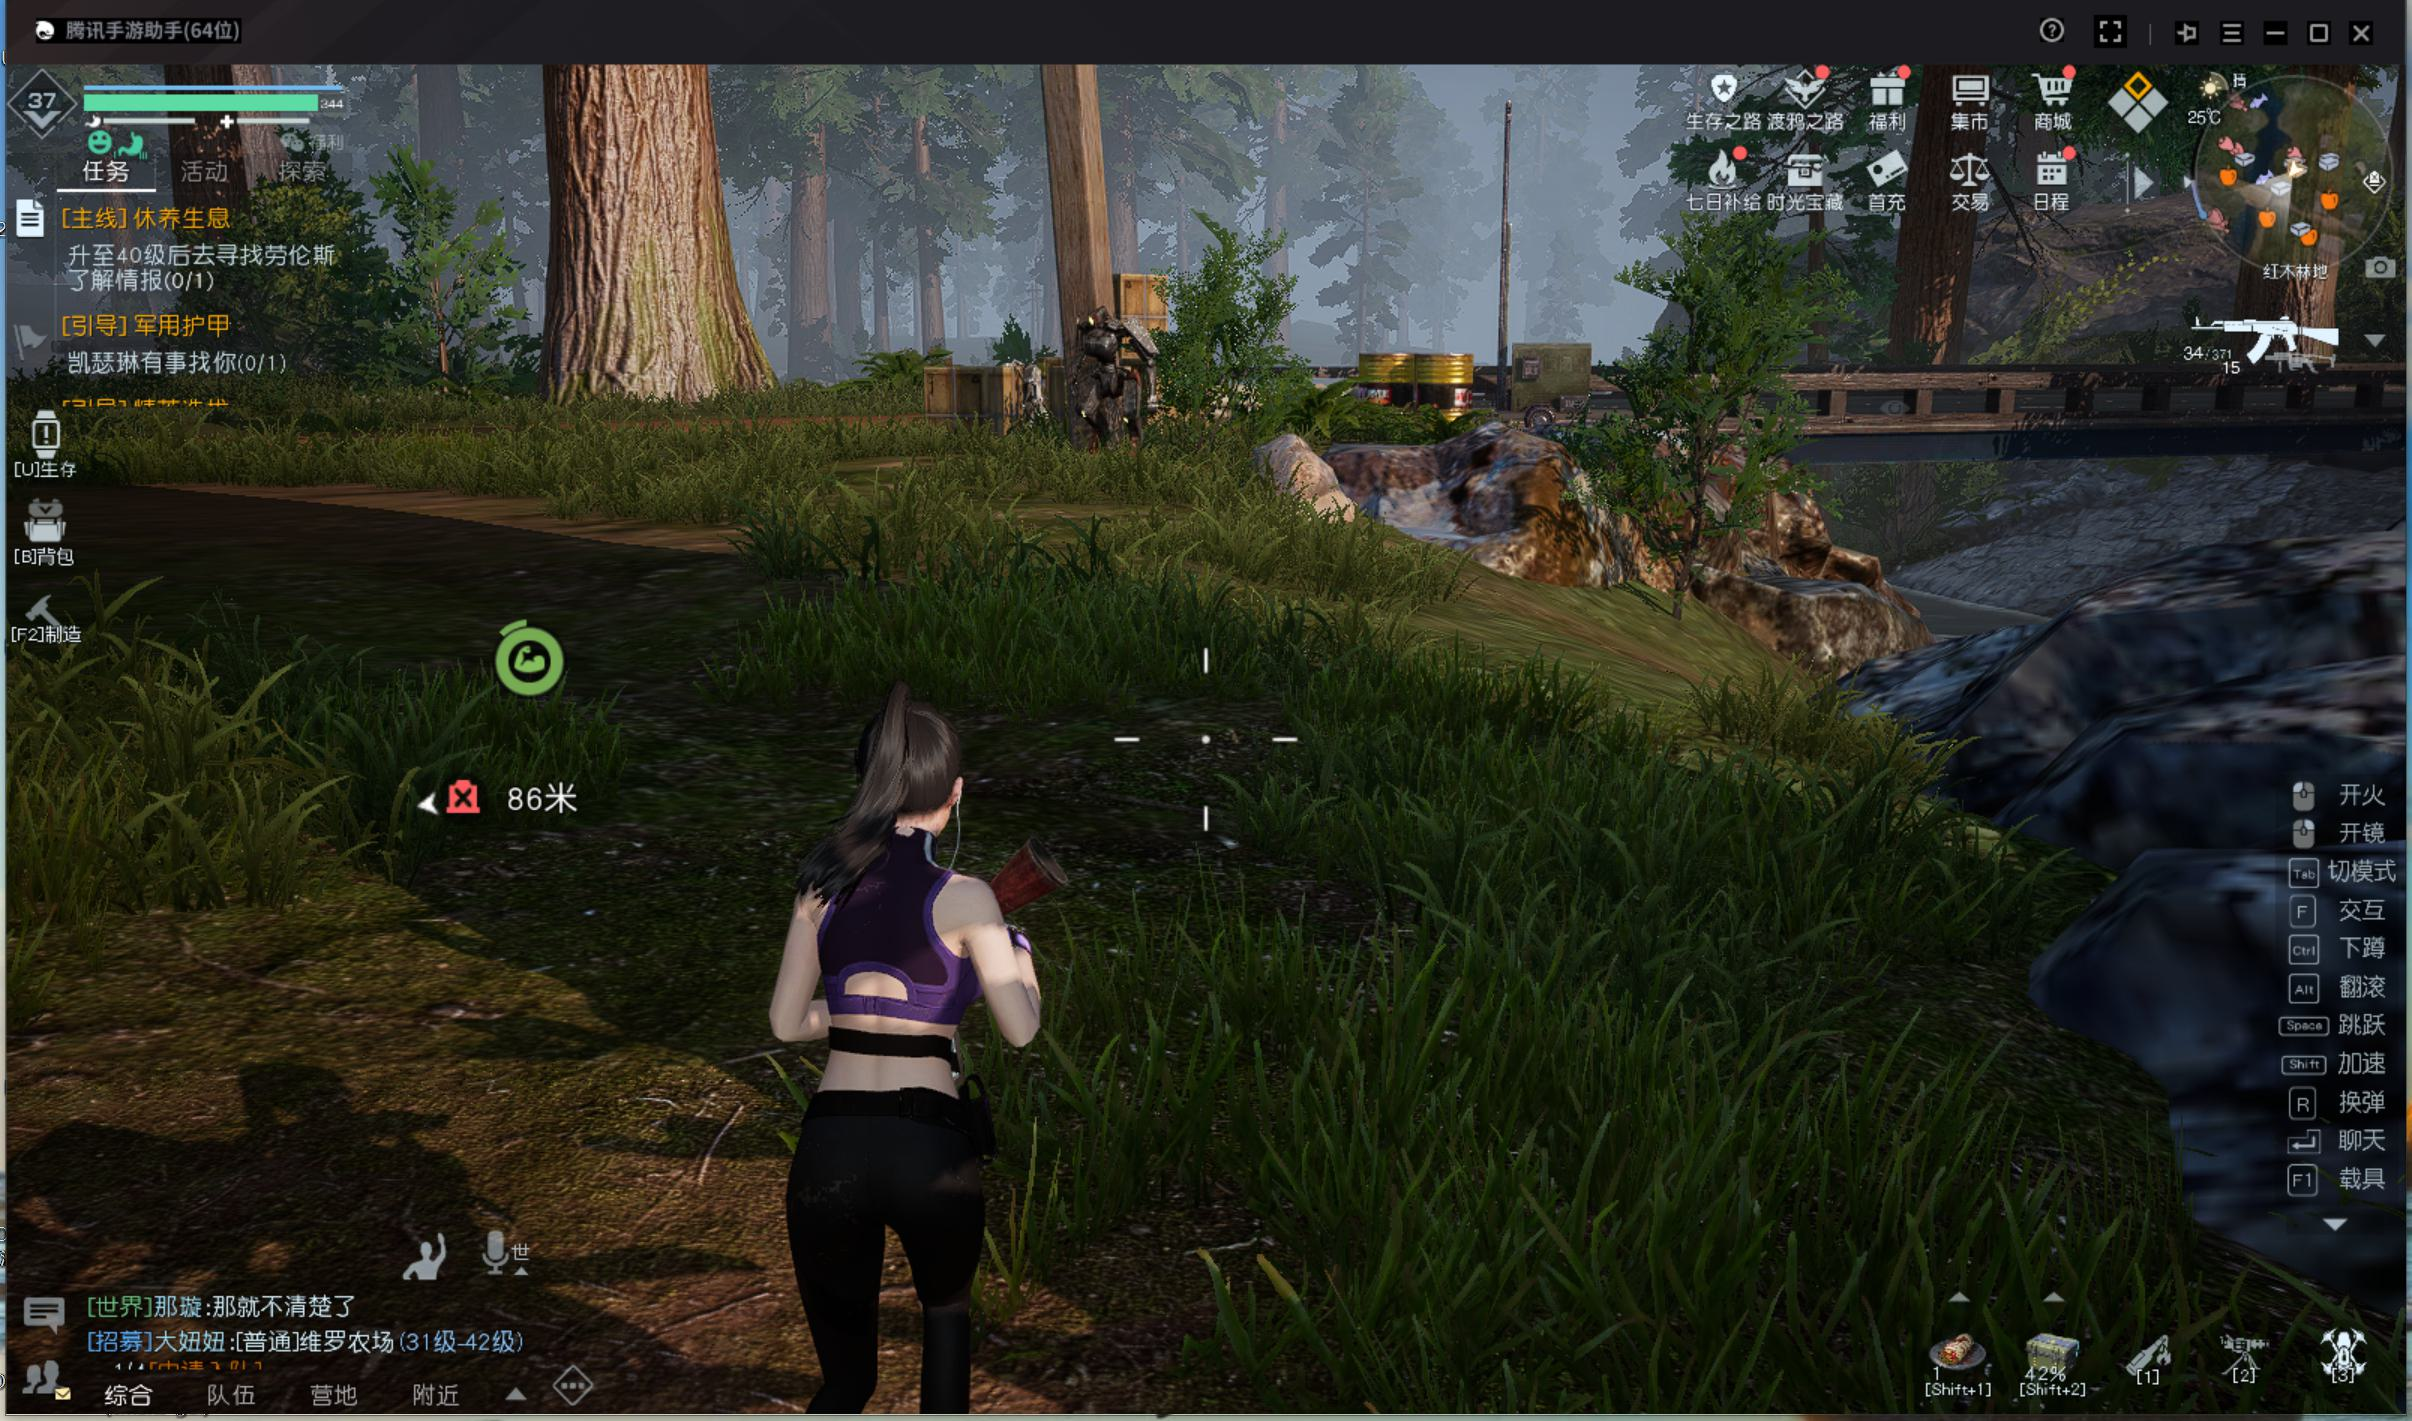tree: (497, 123, 754, 430), (1886, 145, 1976, 382)
